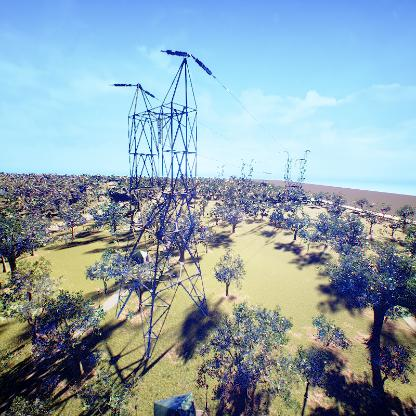tower: (109, 48, 216, 368), (279, 144, 312, 224)
